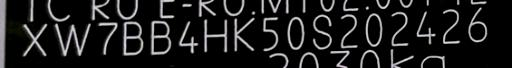letter: (52, 21, 92, 57), (201, 17, 229, 53), (148, 18, 174, 56), (20, 21, 48, 56), (412, 8, 438, 45), (387, 9, 413, 46), (439, 6, 463, 45), (466, 6, 490, 44), (336, 12, 360, 49), (310, 13, 334, 50), (258, 15, 282, 51), (232, 16, 256, 52), (176, 19, 200, 55), (122, 18, 144, 55), (96, 19, 118, 56), (284, 14, 306, 50), (363, 12, 383, 48)
